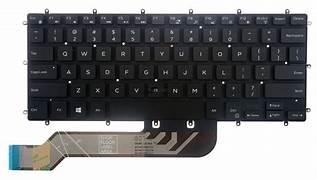keyboard: (24, 8, 310, 126)
